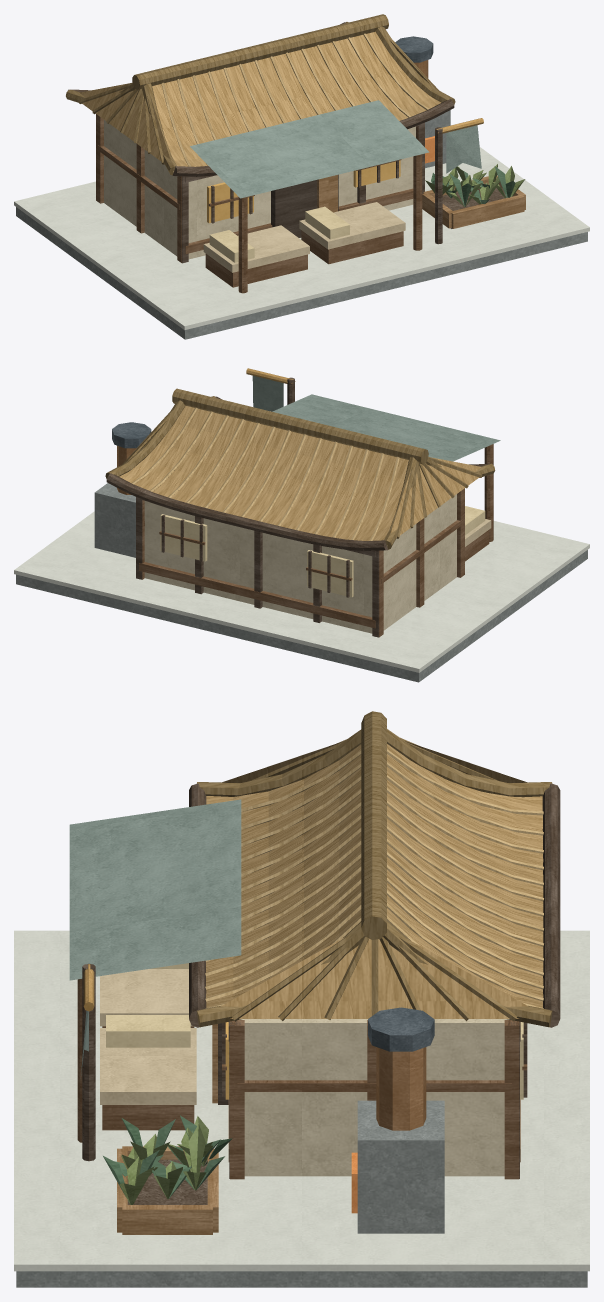
The model's file is BLD_CLINIC.glb.
3 renders of one model, top to bottom at view 1: azimuth 30°, elevation 25°; view 2: azimuth 150°, elevation 25°; view 3: azimuth 270°, elevation 25°, orthographic. The views are drawn at different scales.
Parts seen in each view (by area): view 1: BLD_CLINIC; view 2: BLD_CLINIC; view 3: BLD_CLINIC.
Part boxes in pixels (x1,y1,x2,y2): BLD_CLINIC: (14,14,589,339); BLD_CLINIC: (14,368,589,682); BLD_CLINIC: (14,711,589,1287).
Size of the model in its own units: 6.53 by 2.66 by 4.76.
21 materials, 21 textured.
